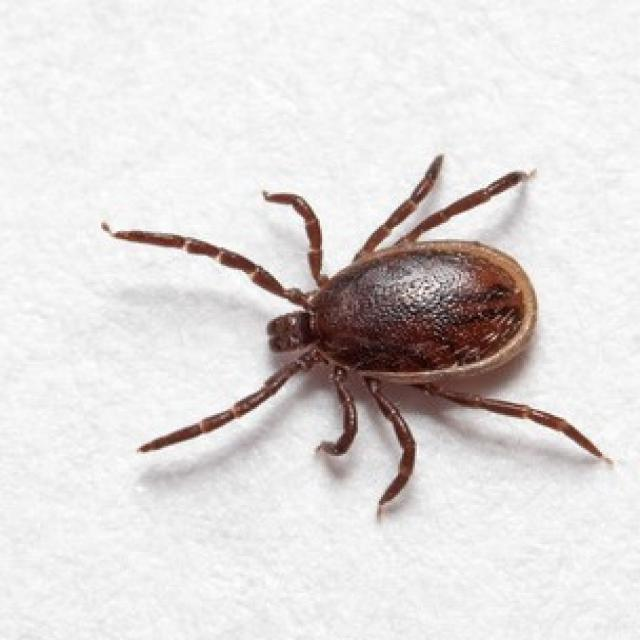Ixodes Ricinus-M: (103, 155, 611, 517)
